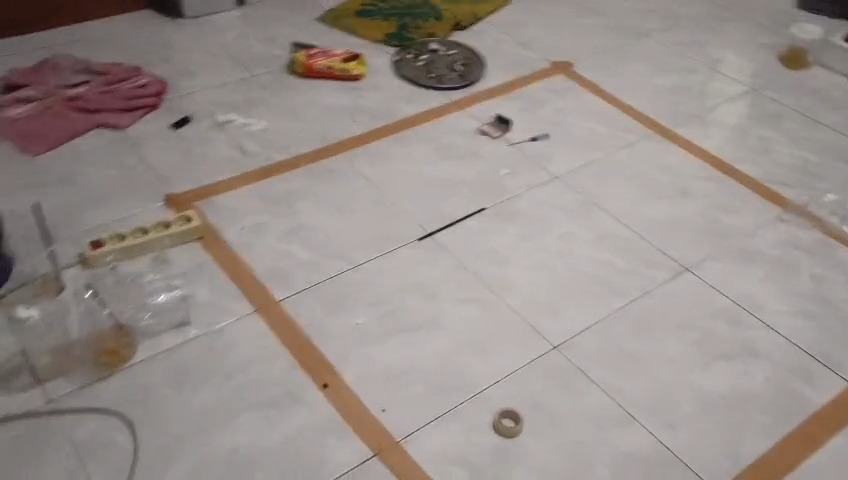floor marking: (165, 61, 847, 479), (734, 387, 847, 479)
